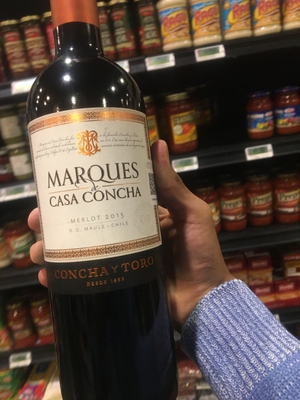marques de casa concha merlot: (23, 11, 169, 391)
